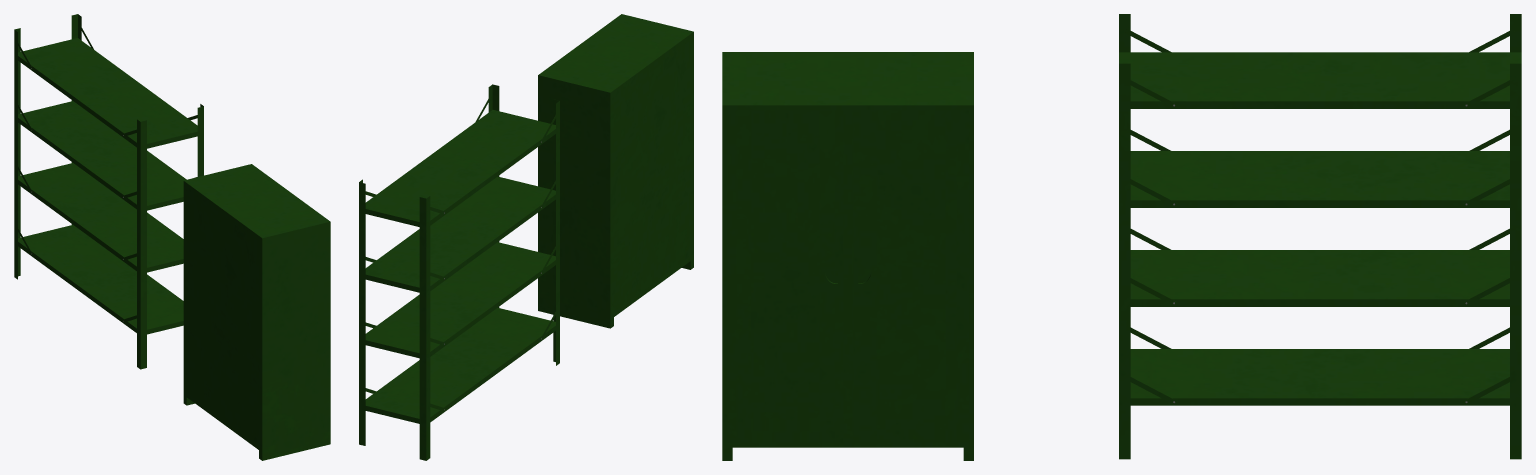
Rendered from locker_rack.glb.
The picture shows the model from 3 angles, left to right: view 1: azimuth 30°, elevation 25°; view 2: azimuth 150°, elevation 25°; view 3: azimuth 270°, elevation 25°; orthographic projection. The views are drawn at different scales.
Visible parts, largest first — view 1: locker, rack; view 2: rack, locker; view 3: rack, locker_door_1, locker_door_2, locker.
Boxes of the visible parts, x1,y1,x2,y2 form: locker: [183, 164, 330, 460]; rack: [14, 14, 203, 369]; rack: [359, 84, 559, 460]; locker: [538, 14, 693, 328]; rack: [1119, 14, 1521, 459]; locker_door_1: [727, 110, 843, 442]; locker_door_2: [853, 110, 968, 442]; locker: [722, 52, 973, 460].
Size of the model in its own units: 0.6 by 2.08 by 3.81.
Materials: 1 (1 with a texture image).
